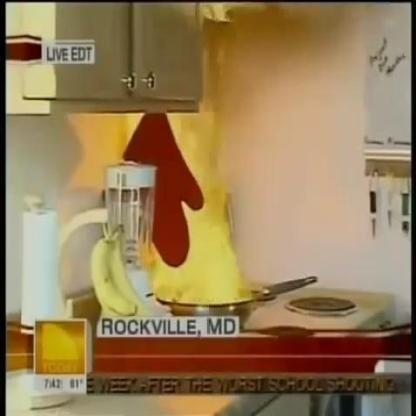fire: (131, 110, 266, 304)
